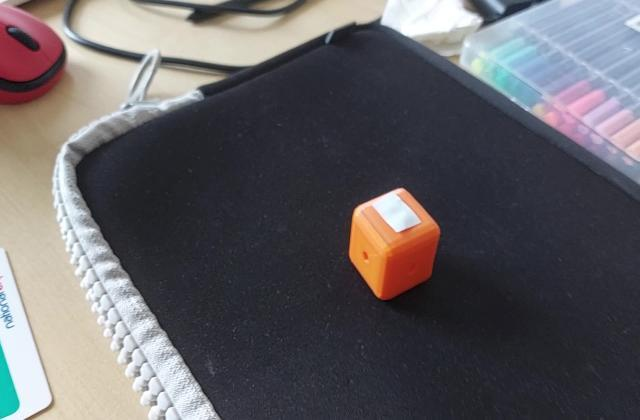sticker: (344, 188, 442, 304)
white: (374, 202, 422, 234)
